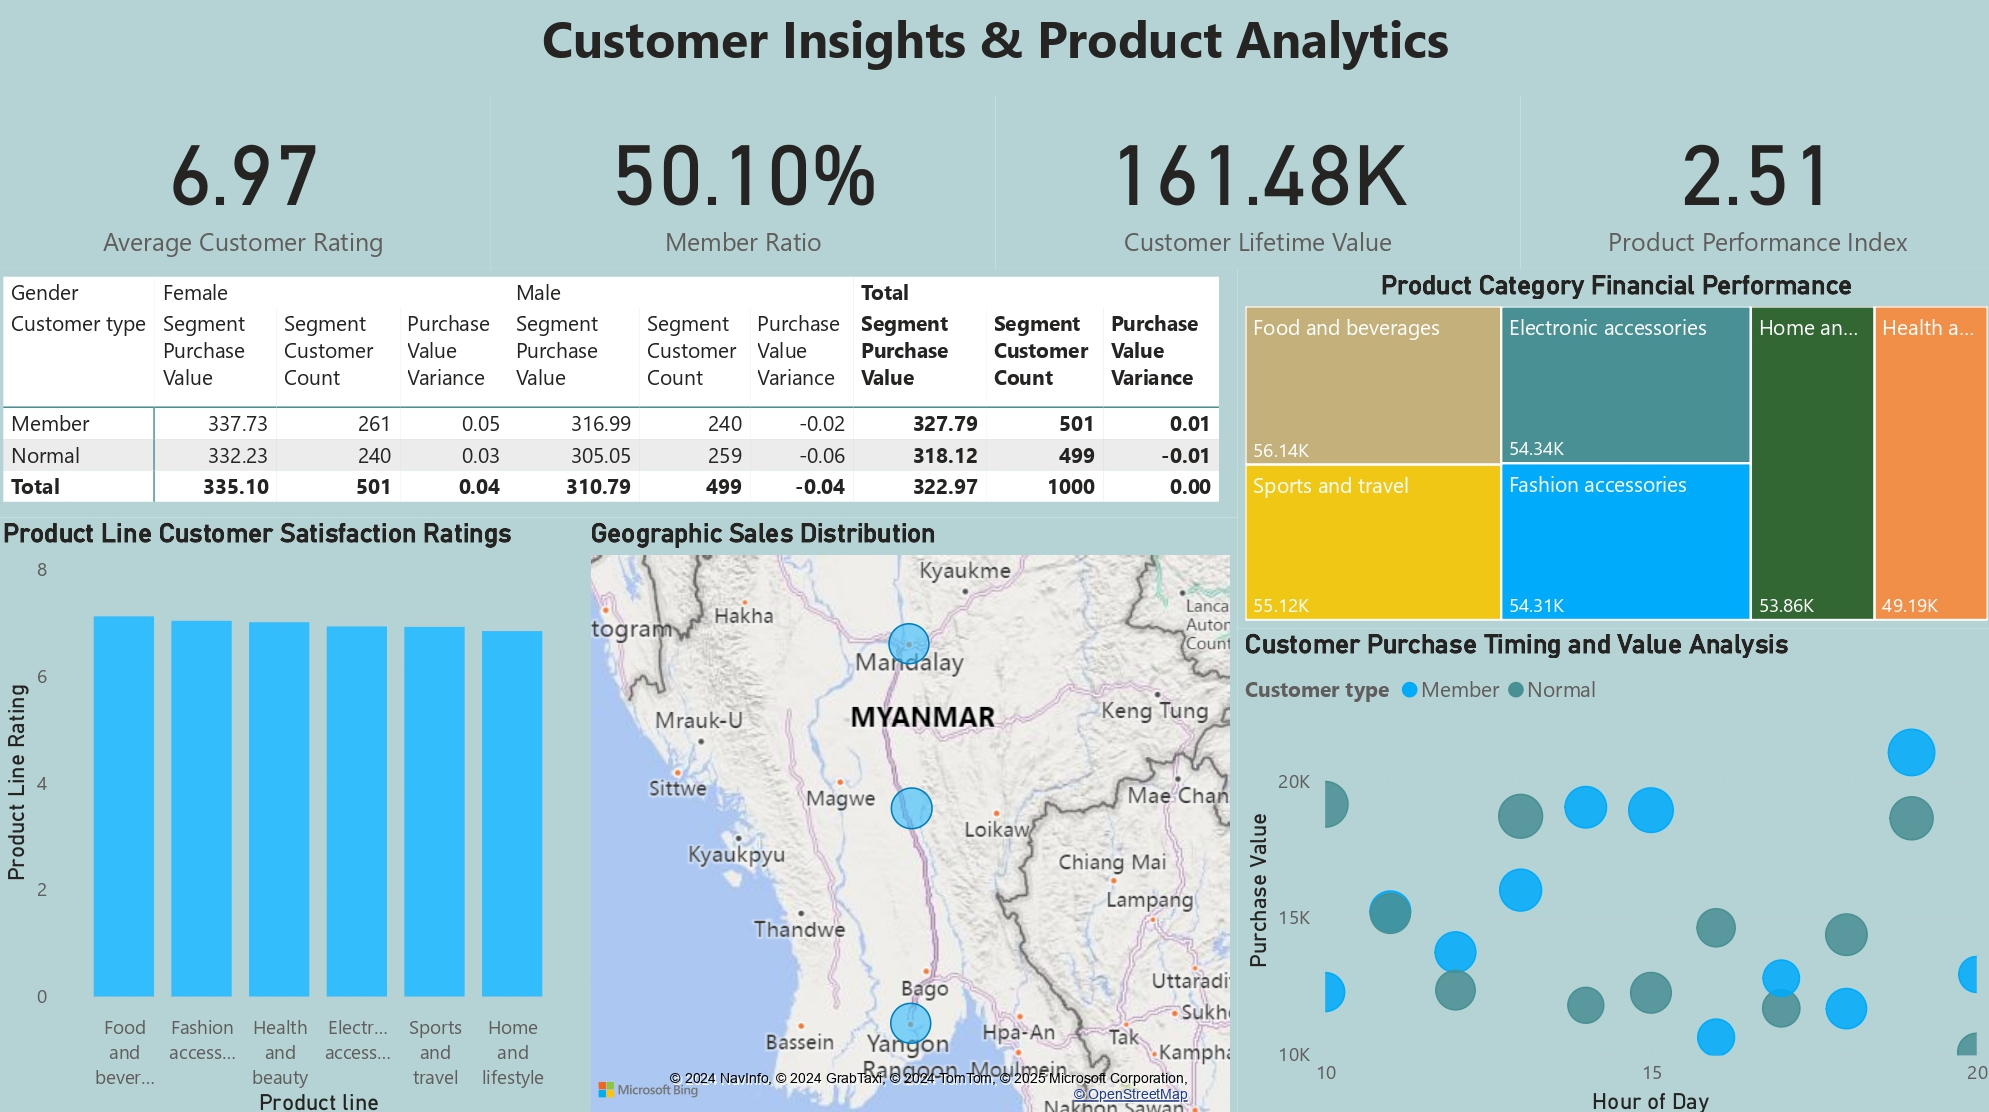

This screenshot's page, from the dashboard's own definition file:
{"tool":"powerbi","page":{"name":"Customer & Product Insights","canvas":[1280,720],"ordinal":1},"visuals":[{"type":"textbox","box":[0,0,1280,63.8],"z":0},{"type":"pivotTable","fields":{"Rows":["supermarket_sales.Customer type"],"Columns":["supermarket_sales.Gender"],"Values":["supermarket_sales.Segment Transaction Value","supermarket_sales.Segment Customer Count","supermarket_sales.Purchase Value Variance"]},"box":[0,174.9,795,158.7],"z":1000},{"type":"treemap","title":"Product Category Financial Performance","fields":{"Values":["supermarket_sales.Category Sales"],"Group":["supermarket_sales.Product line"]},"box":[794.8,174.9,485.5,229.9],"z":2000},{"type":"clusteredColumnChart","title":"Product Line Customer Satisfaction Ratings","fields":{"Category":["supermarket_sales.Product line"],"Y":["supermarket_sales.Product Rating"]},"box":[0,333.6,375.7,387],"z":3000},{"type":"card","fields":{"Values":["supermarket_sales.Average Customer Rating"]},"box":[0,63.1,317.4,111.7],"z":4000},{"type":"card","fields":{"Values":["supermarket_sales.Member Ratio"]},"box":[317.4,63.1,322.2,111.7],"z":5000},{"type":"card","fields":{"Values":["supermarket_sales.Customer Lifetime Value"]},"box":[639.6,63.1,336.8,111.7],"z":6000},{"type":"card","fields":{"Values":["supermarket_sales.Product Performance Index"]},"box":[975.6,63.1,304.4,111.7],"z":7000},{"type":"map","title":"Geographic Sales Distribution","fields":{"Category":["supermarket_sales.City"],"Size":["supermarket_sales.City Sales"]},"box":[376,334,419,386],"z":8000},{"type":"scatterChart","title":"Customer Purchase Timing and Value Analysis","fields":{"X":["supermarket_sales.Hour of Day"],"Y":["supermarket_sales.Purchase Value"],"Size":["supermarket_sales.Transaction Count"],"Series":["supermarket_sales.Customer type"]},"box":[795,405,485,315],"z":9000}]}

Visuals, with their boxes in screenshot pixels (x1, y1, x2, y2), scaled from the page's 1280x720 canvas onto the 1989x1112 screenshot:
textbox: 0 0 1988 99
pivotTable - supermarket_sales.Customer type x supermarket_sales.Gender: 0 270 1235 515
"Product Category Financial Performance" treemap: 1235 270 1988 625
"Product Line Customer Satisfaction Ratings" clusteredColumnChart: 0 515 584 1111
card - supermarket_sales.Average Customer Rating: 0 97 493 270
card - supermarket_sales.Member Ratio: 493 97 994 270
card - supermarket_sales.Customer Lifetime Value: 994 97 1517 270
card - supermarket_sales.Product Performance Index: 1516 97 1988 270
"Geographic Sales Distribution" map: 584 516 1235 1111
"Customer Purchase Timing and Value Analysis" scatterChart: 1235 626 1988 1111
